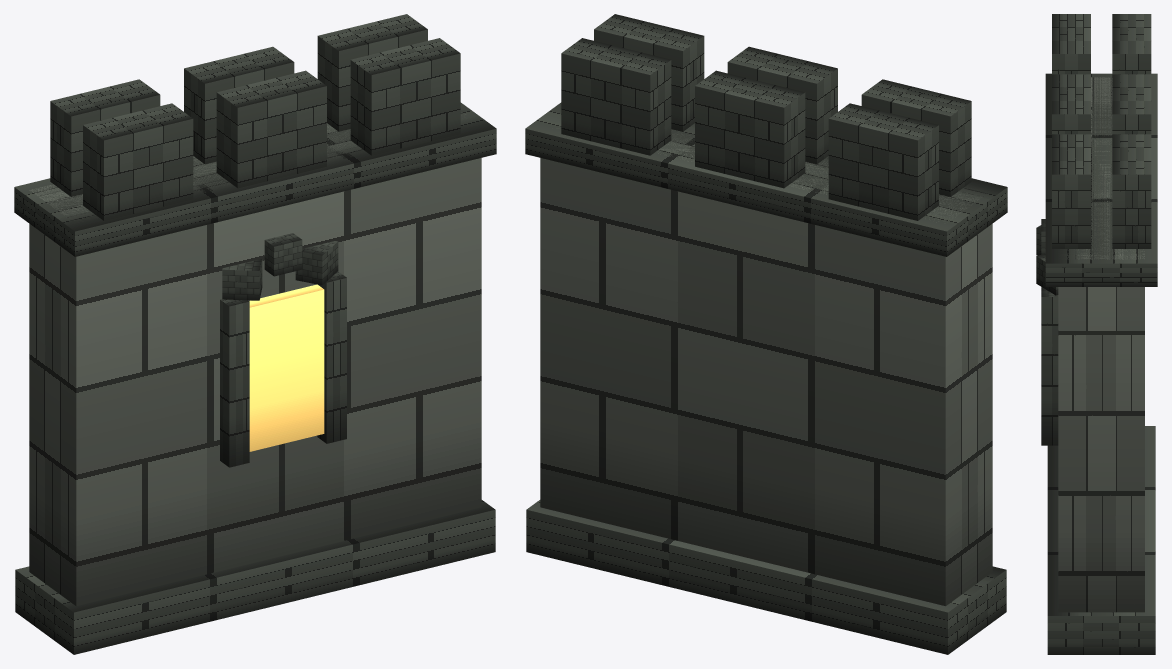
The model's file is wall_window.gltf.
3 renders of one model, left to right at view 1: azimuth 30°, elevation 25°; view 2: azimuth 150°, elevation 25°; view 3: azimuth 270°, elevation 25°, orthographic. The views are drawn at different scales.
Visible parts, largest first — view 1: wall_window; view 2: wall_window; view 3: wall_window.
Boxes of the visible parts, x1,y1,x2,y2 form: wall_window: [14, 14, 496, 654]; wall_window: [525, 14, 1007, 654]; wall_window: [1036, 14, 1157, 654].
Size of the model in its own units: 1.04 by 1.19 by 0.2816.
1 material, 1 textured.
